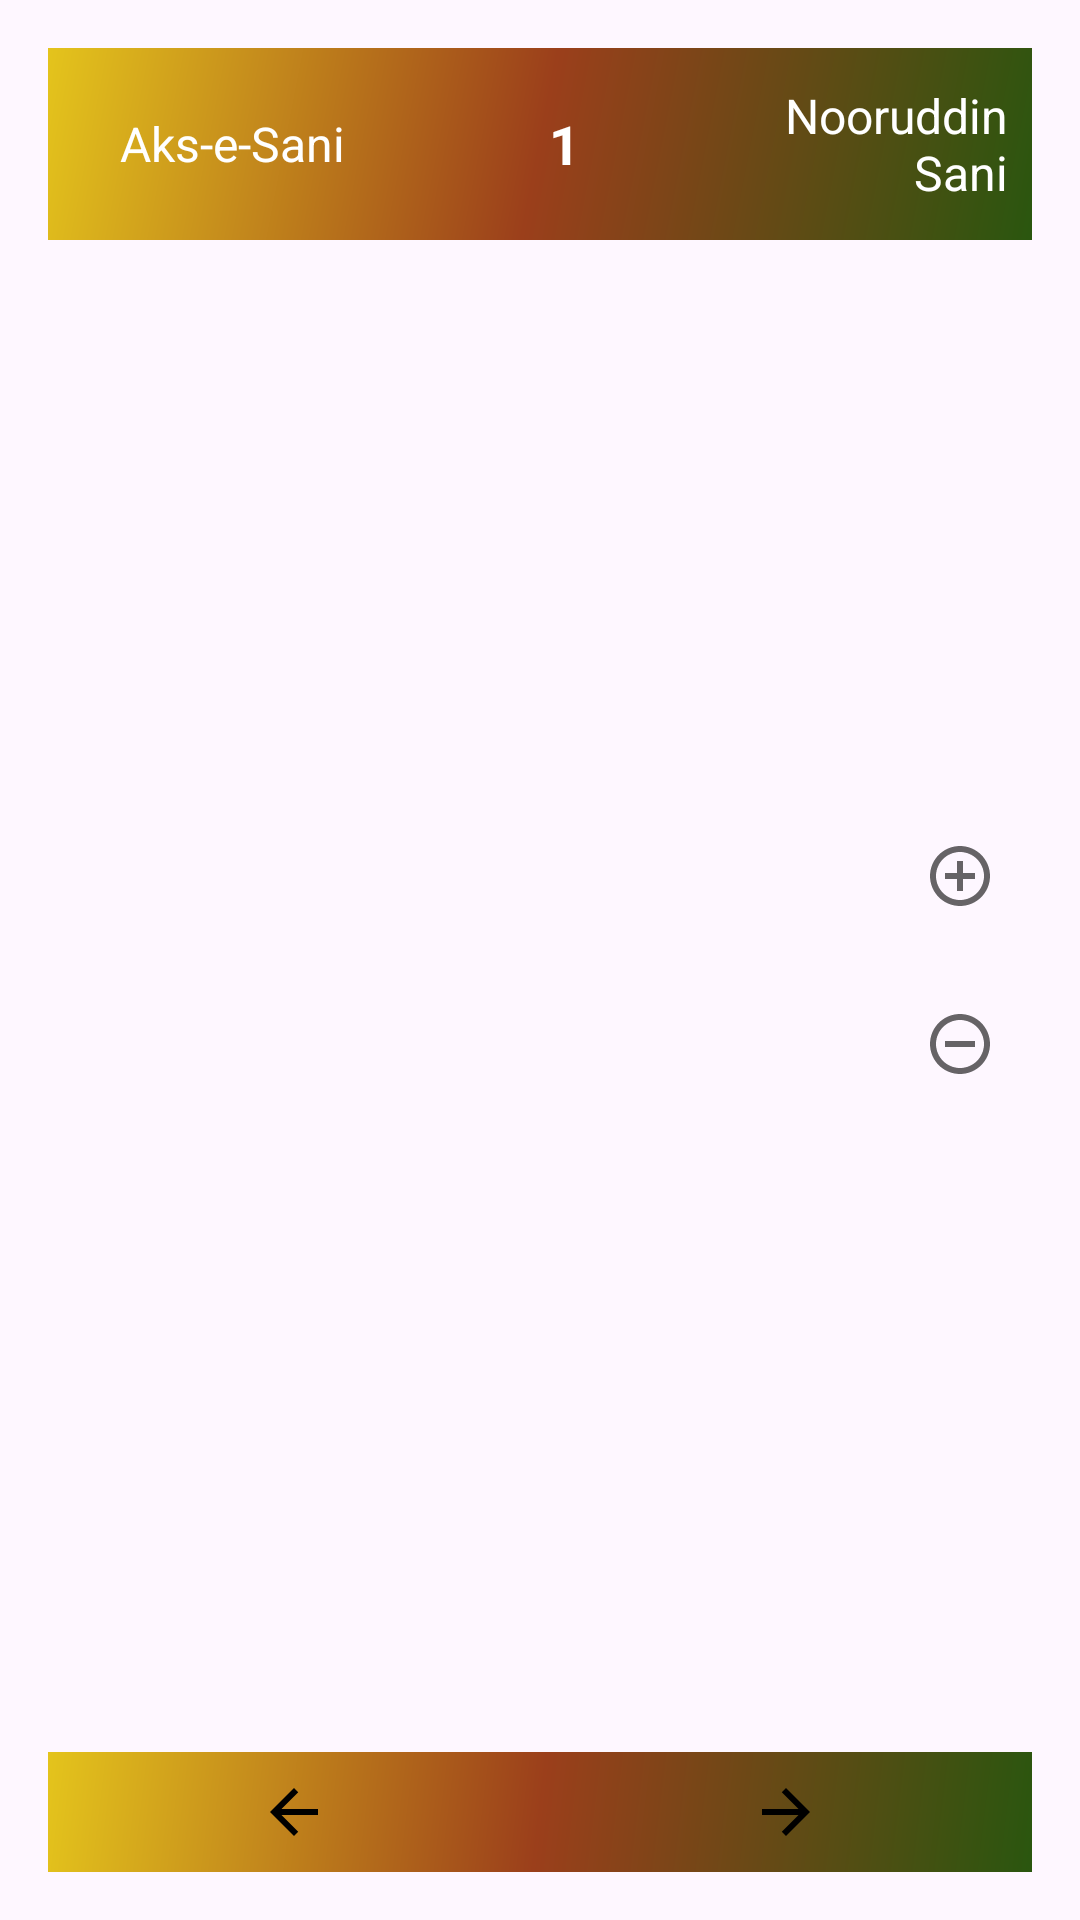

Screen size 1080x1920. Icon name, then its box in pixels as (x1, y1, x2, y2):
Decrease Font Size: (930, 1014, 990, 1074)
Increase Font Size: (930, 846, 990, 906)
